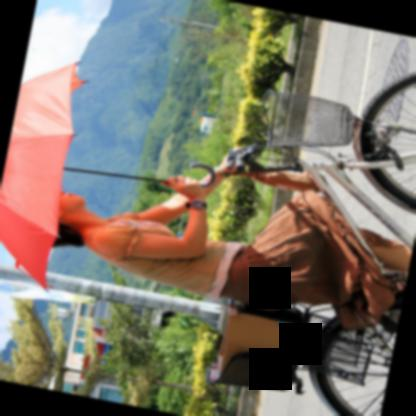handbag: (233, 169, 320, 191)
